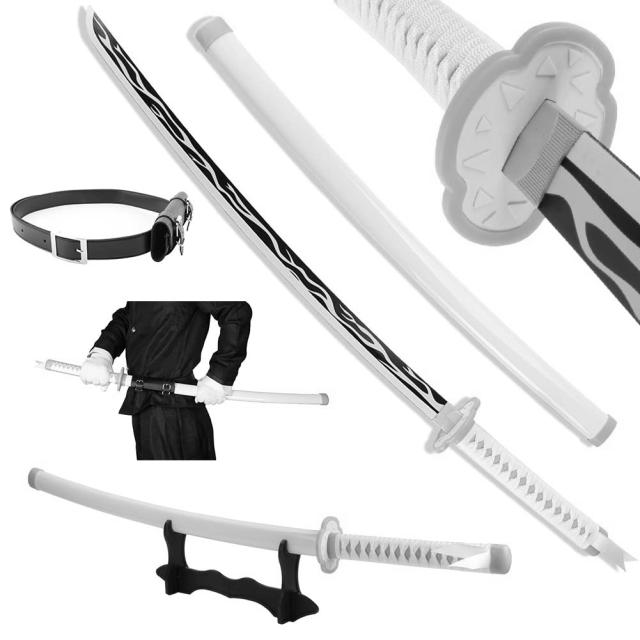Knife: (46, 19, 632, 556), (22, 460, 519, 600)
